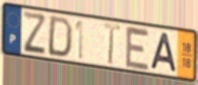1: (74, 20, 84, 61)
A: (148, 31, 179, 75)
D: (46, 14, 74, 59)
E: (125, 24, 151, 73)
T: (103, 21, 122, 67)
Z: (22, 10, 48, 55)
